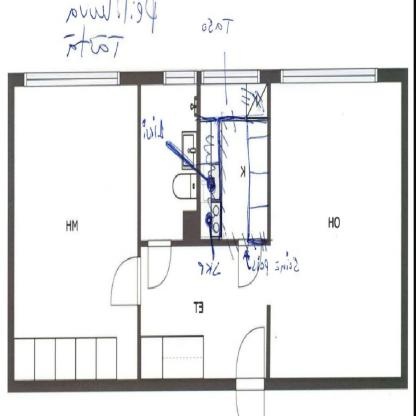door: (235, 325, 269, 416), (110, 255, 141, 310), (147, 240, 172, 292), (238, 237, 260, 288)
window: (280, 68, 377, 82), (25, 72, 120, 84), (201, 70, 260, 84), (164, 70, 197, 84)
zone: (141, 86, 401, 378), (14, 85, 137, 380), (200, 83, 267, 237), (141, 85, 196, 241)
